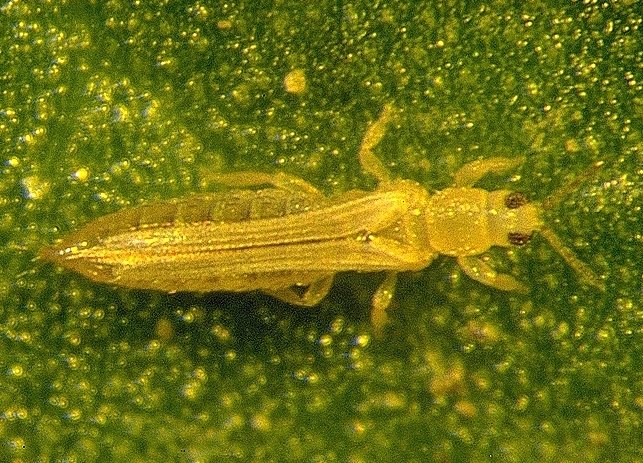Thrips: (48, 123, 558, 331)
